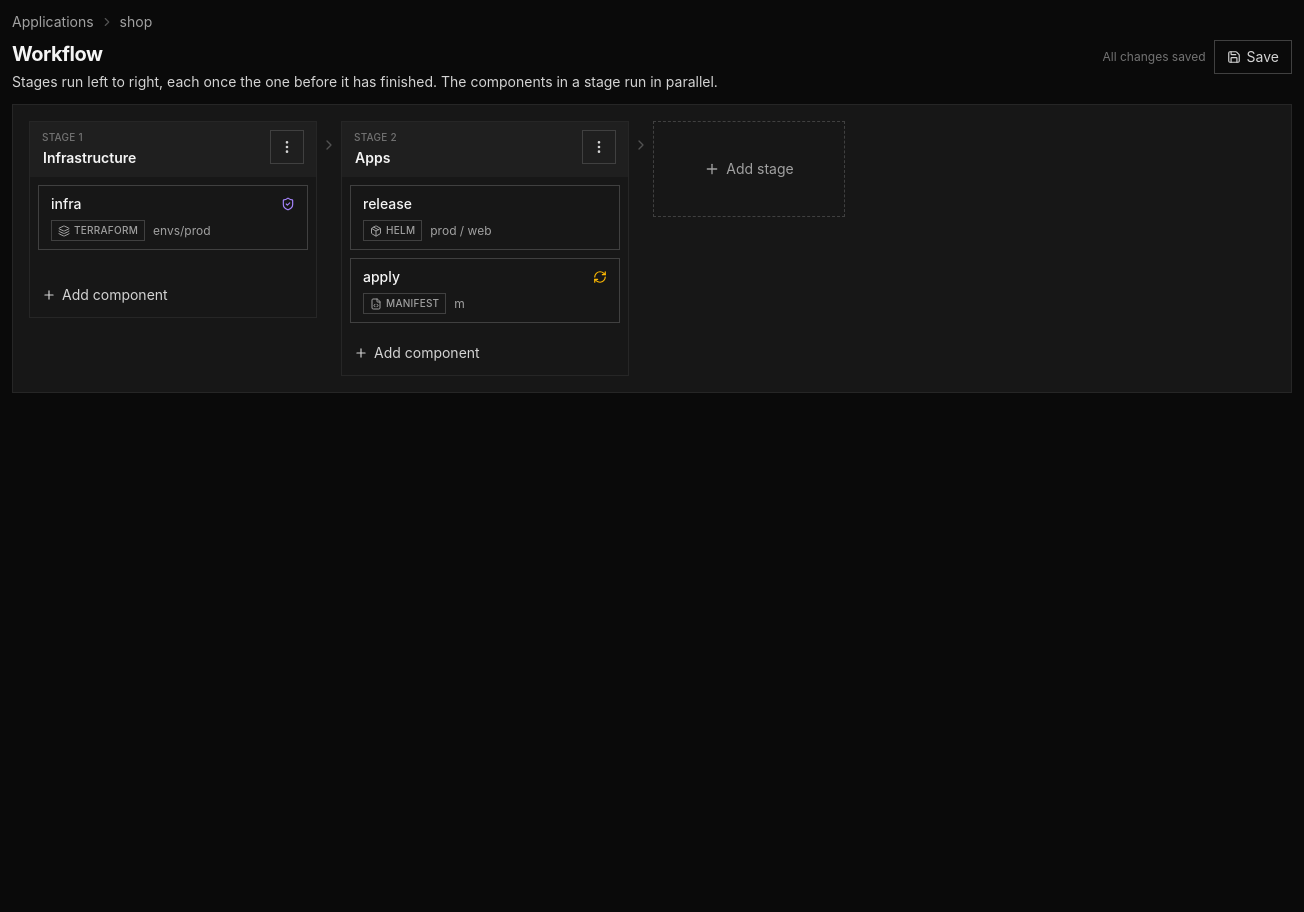
WorkflowBuilder › offers a saved component's variables from its page
What coordinates should you click on to do the following:
click the text "infra"
I would click on:
 (66, 204)
Its box is [51,194,82,214].
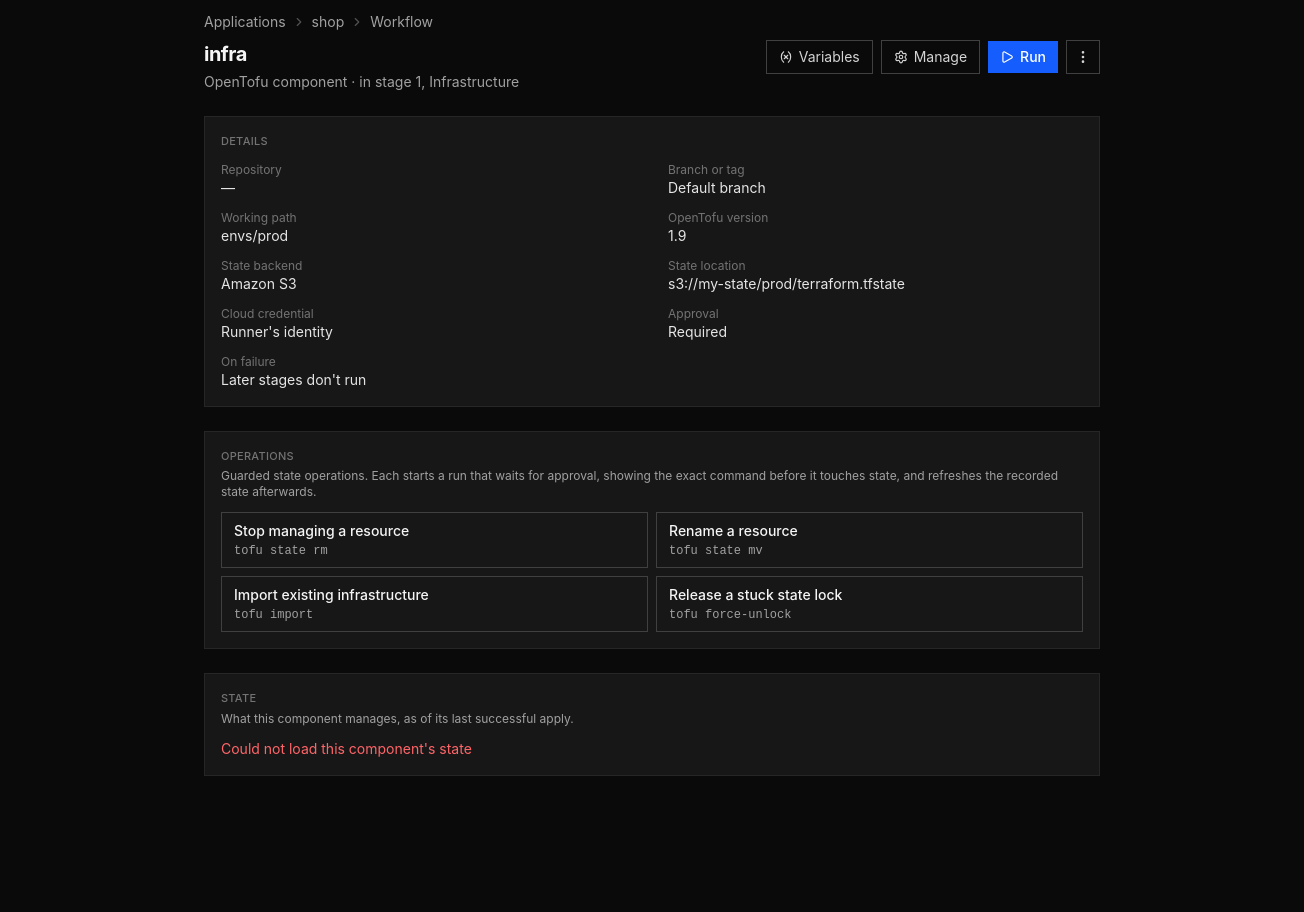
What coordinates should you click on to do the following:
click the button "Variables"
I would click on:
 (819, 57)
Its box is [766,40,873,74].
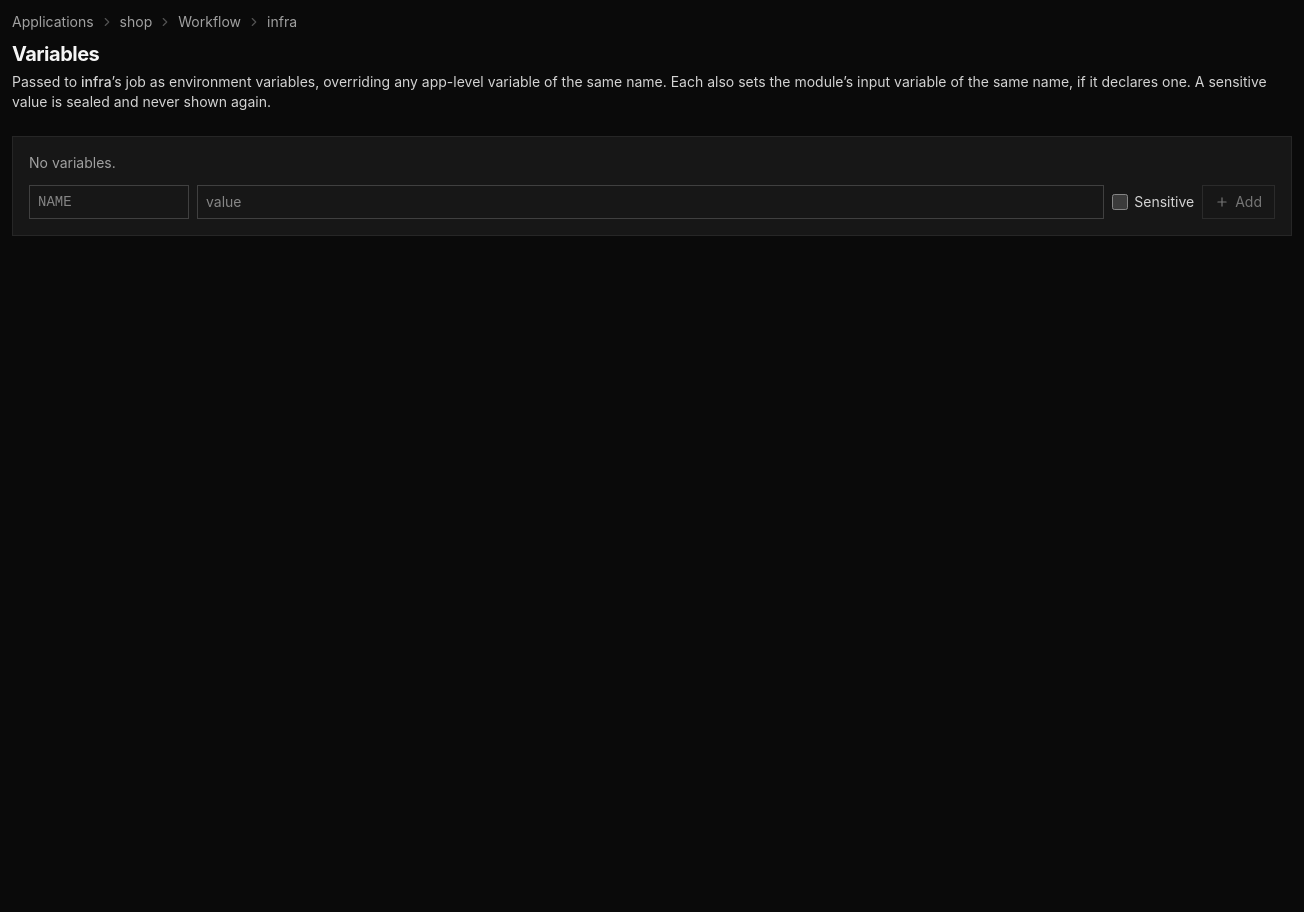
Now the heading "Variables" is shown, box [12,42,99,66]
Now the text "overriding any app-level variable" is shown, box [112,73,667,90]
